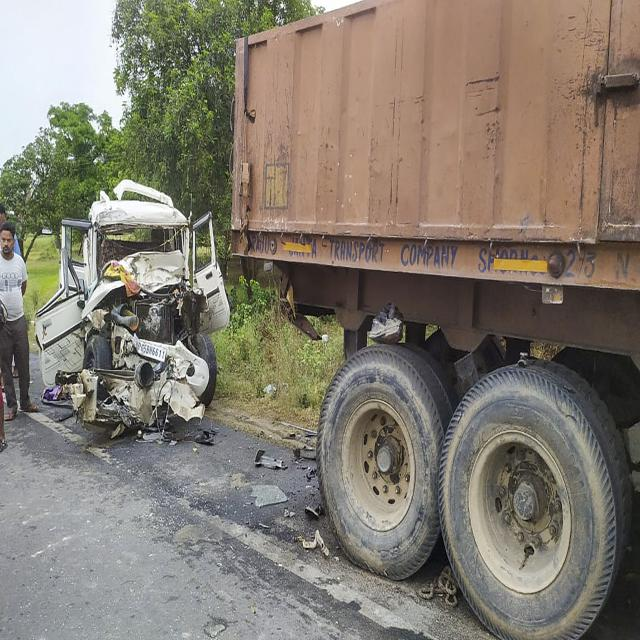accident: (35, 179, 229, 430)
truck: (231, 0, 640, 638)
